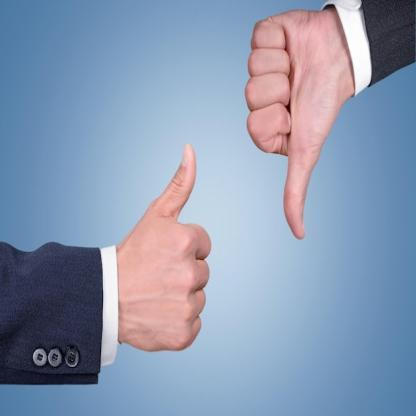thumb_down: (244, 5, 340, 240)
thumb_up: (116, 146, 212, 353)
